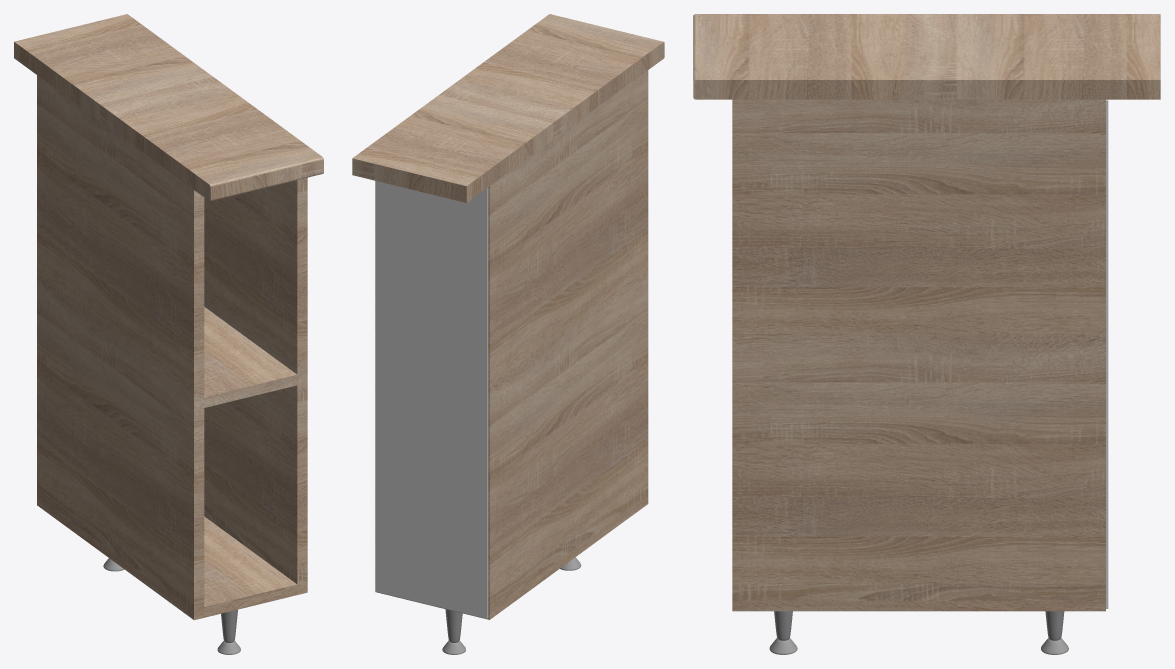
Rendered from s_any_20.glb.
3 views of the same model, side by side, from view 1: azimuth 30°, elevation 25°; view 2: azimuth 150°, elevation 25°; view 3: azimuth 270°, elevation 25° (orthographic). The views are drawn at different scales.
Parts seen in each view (by area): view 1: s_any_20_korpusz, s_any_20_munkalap, s_any_20_lab_be; view 2: s_any_20_korpusz, s_any_20_munkalap, s_any_20_lab_bh; view 3: s_any_20_korpusz, s_any_20_munkalap, s_any_20_lab_be, s_any_20_lab_bh.
Boxes of the visible parts, x1=… form: s_any_20_korpusz: x1=37, y1=75, x2=307, y2=620; s_any_20_munkalap: x1=14, y1=14, x2=323, y2=201; s_any_20_lab_be: x1=217, y1=609, x2=240, y2=654; s_any_20_korpusz: x1=375, y1=70, x2=648, y2=619; s_any_20_munkalap: x1=352, y1=14, x2=664, y2=202; s_any_20_lab_bh: x1=442, y1=609, x2=465, y2=654; s_any_20_korpusz: x1=732, y1=99, x2=1108, y2=611; s_any_20_munkalap: x1=693, y1=14, x2=1160, y2=99; s_any_20_lab_be: x1=769, y1=611, x2=797, y2=654; s_any_20_lab_bh: x1=1041, y1=611, x2=1068, y2=654.
Bounding box in the file's own units: 0.2 × 0.853 × 0.6.
Materials: 4 (2 with a texture image).
